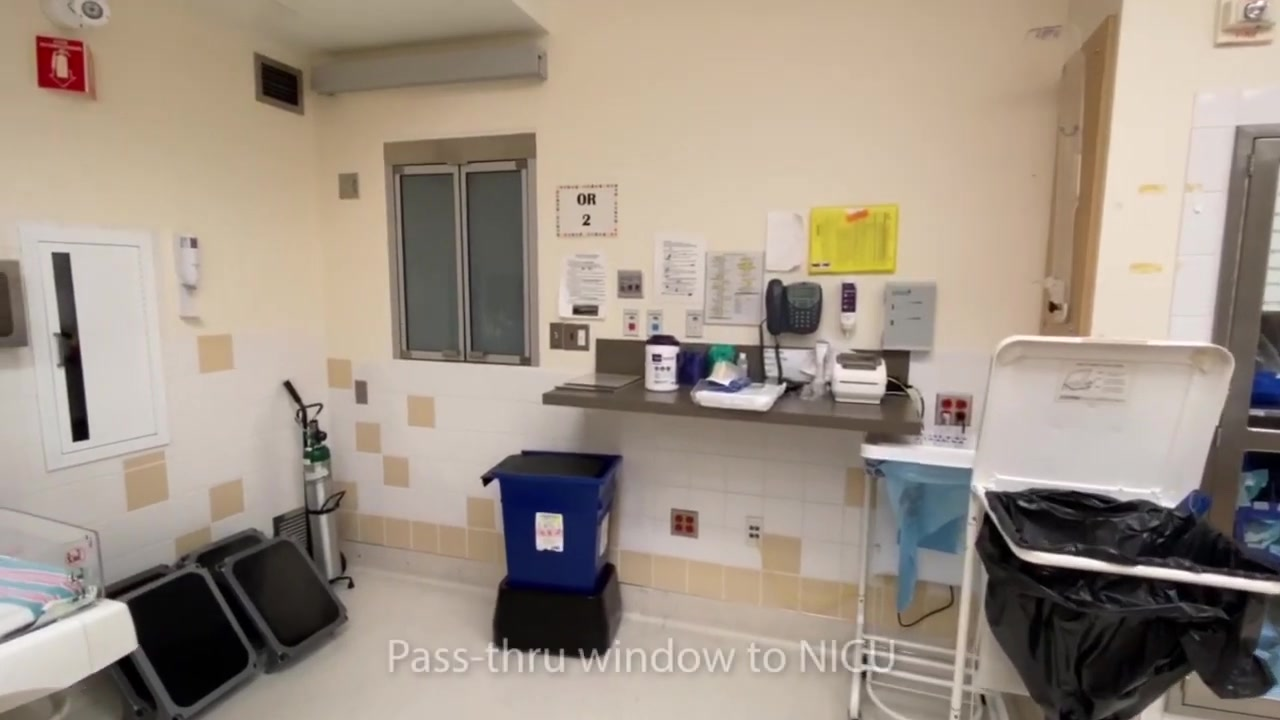countertop: (542, 374, 924, 436)
dispenser: (171, 233, 204, 323)
handle: (52, 332, 70, 371), (470, 351, 488, 361), (441, 349, 458, 359)
telephone: (765, 278, 822, 336)
waste_bin: (976, 474, 1280, 720), (846, 444, 974, 720), (485, 448, 628, 661)
